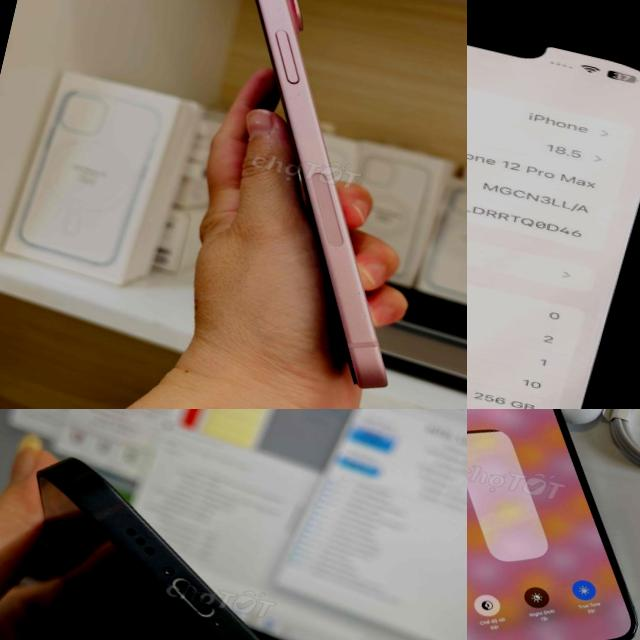gen_12_13: (0, 433, 384, 640), (467, 0, 640, 409), (467, 409, 640, 640)
gen_15: (137, 0, 467, 405)
